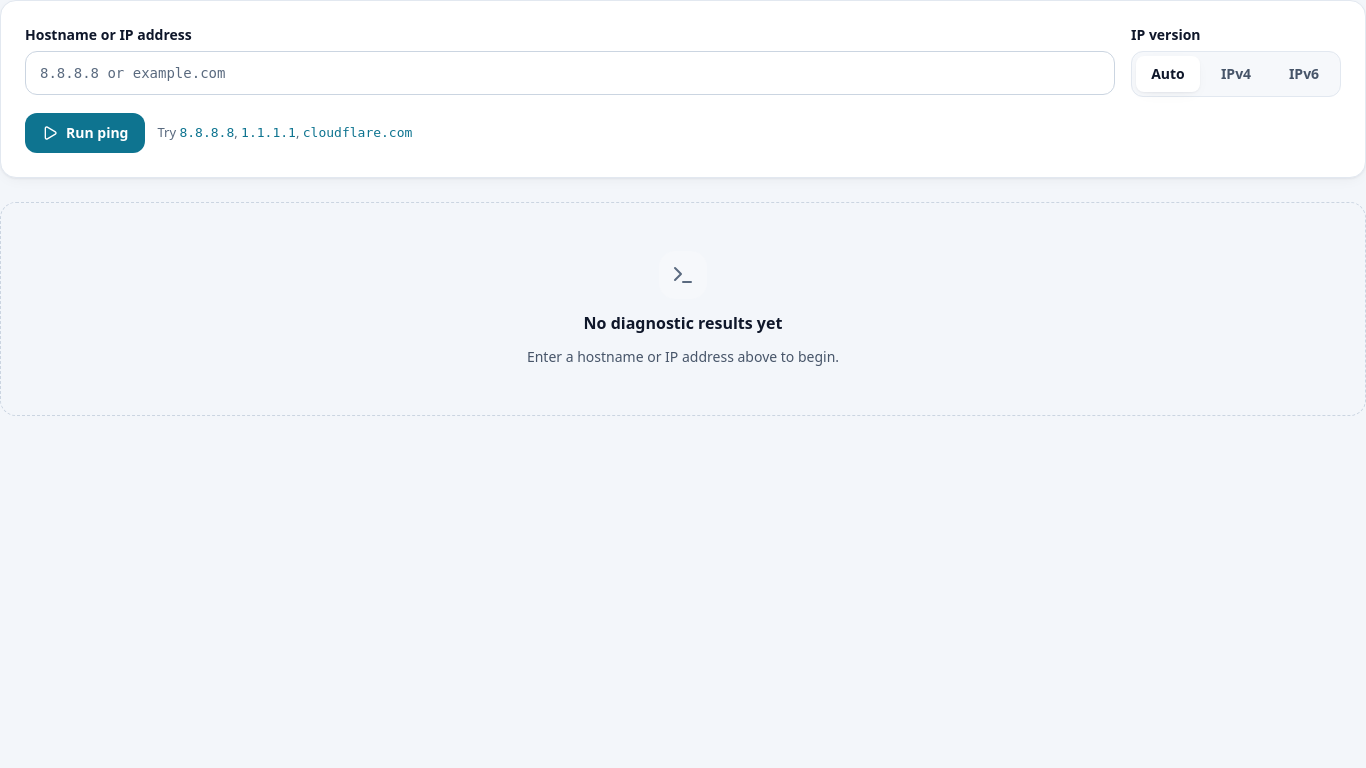
DiagnosticRunner › runs a diagnostic with an abort signal and renders the result
This screenshot has width=1366, height=768.
Type "8.8.8.8" into the field labelled "Hostname or IP address" at (570, 73), box left=25, top=51, right=1115, bottom=95
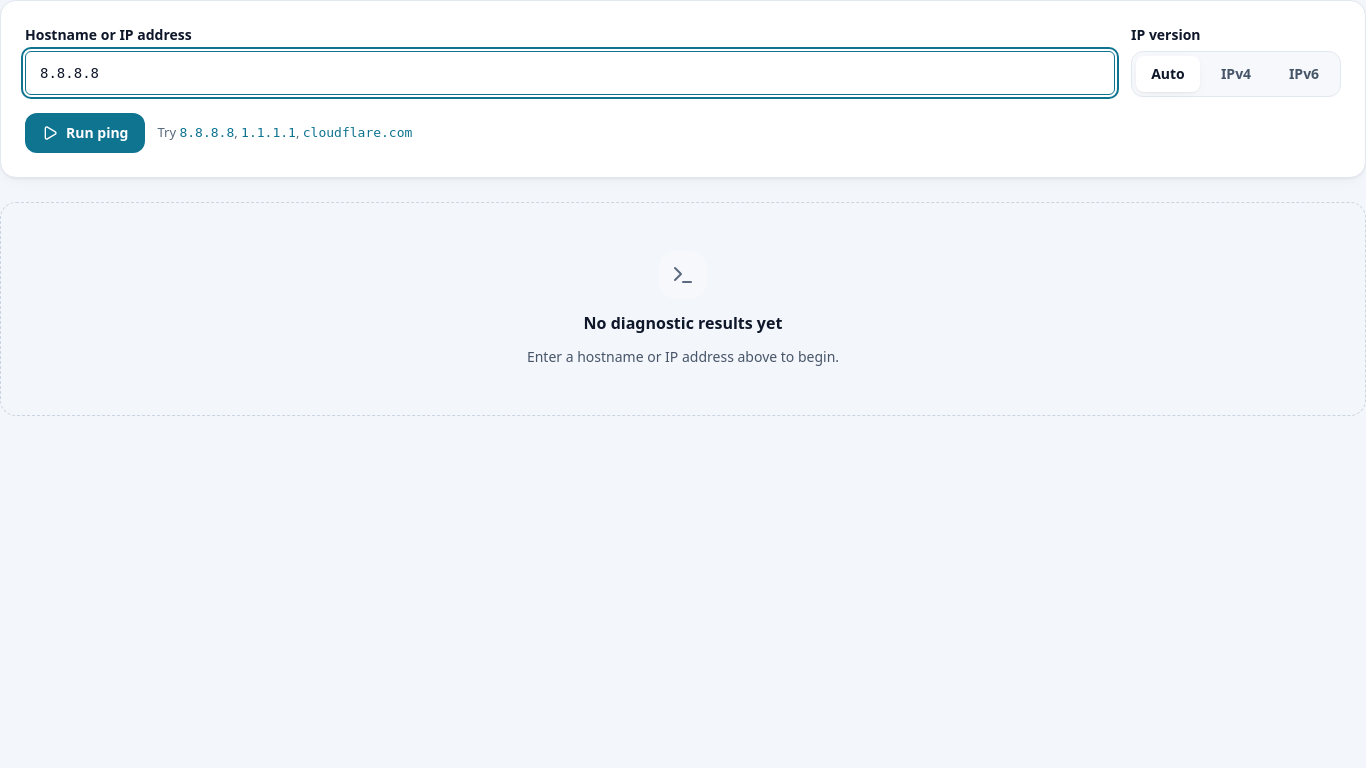
Click the button "Run ping" at (85, 133), box left=25, top=113, right=146, bottom=153
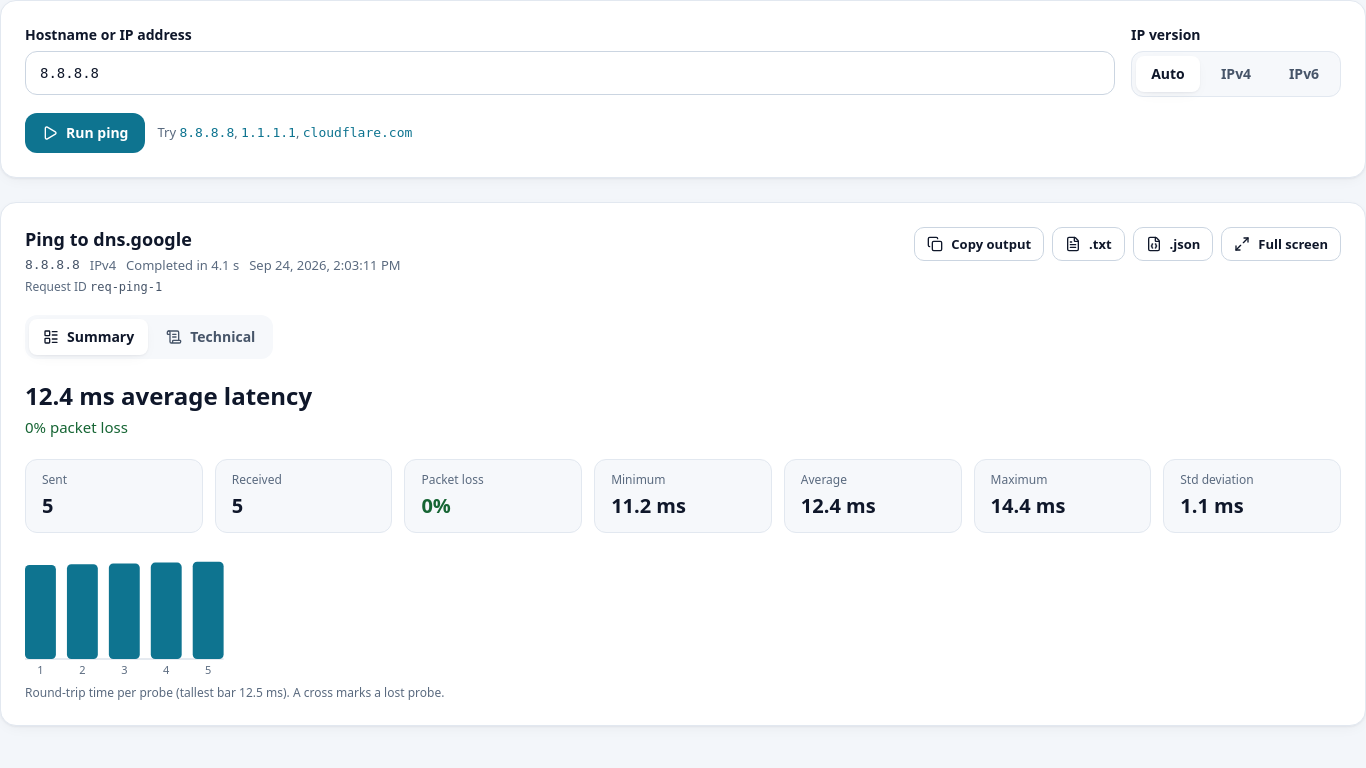
expect the heading "Ping to dns.google" is shown: met, box left=25, top=227, right=192, bottom=251
